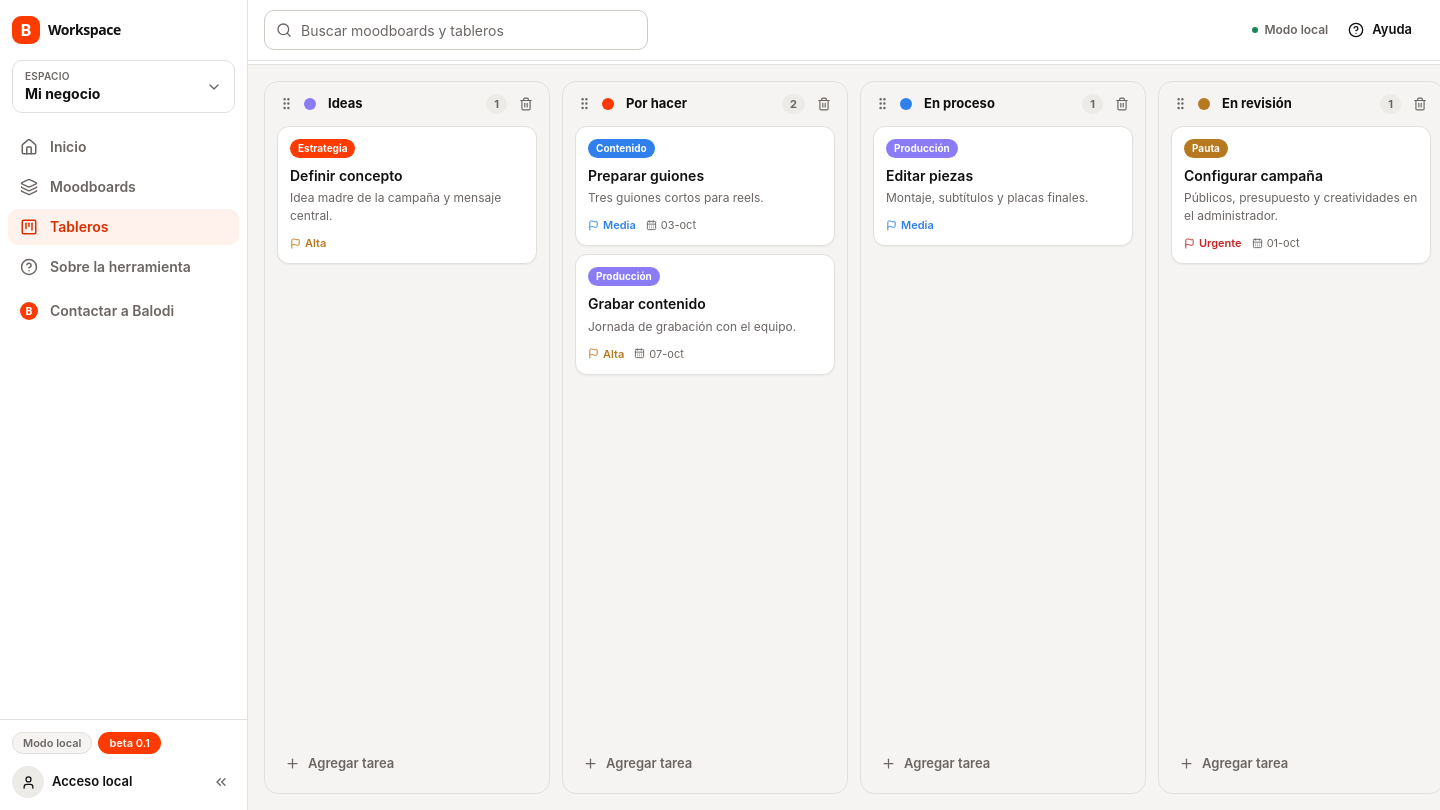
it: producto › abre el tablero con sus columnas y tareas y persiste una tarea nueva
The width and height of the screenshot is (1440, 810).
(page scrolled)
Expected: the heading "Lanzamiento de campaña" is shown, [306,18,550,46]
Expected: the element named "Ideas" is shown, [264,81,550,794]
Click the 1st button "Agregar tarea".
click(351, 762)  # box [277,746,537,781]
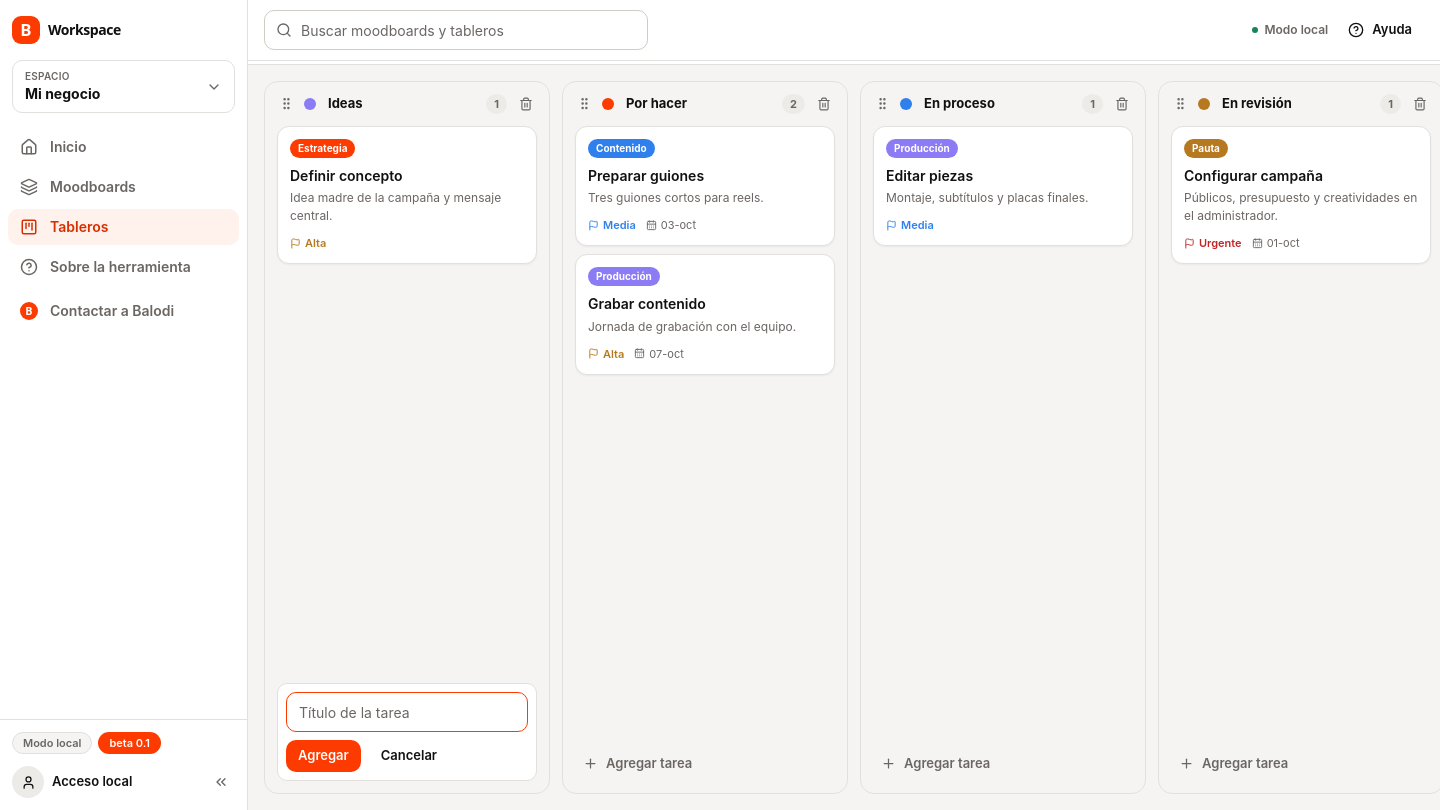
Type "Probar el guardado" into the field with placeholder "Título de la tarea".
click(407, 712); type("Probar el guardado")  # box [286,692,528,732]
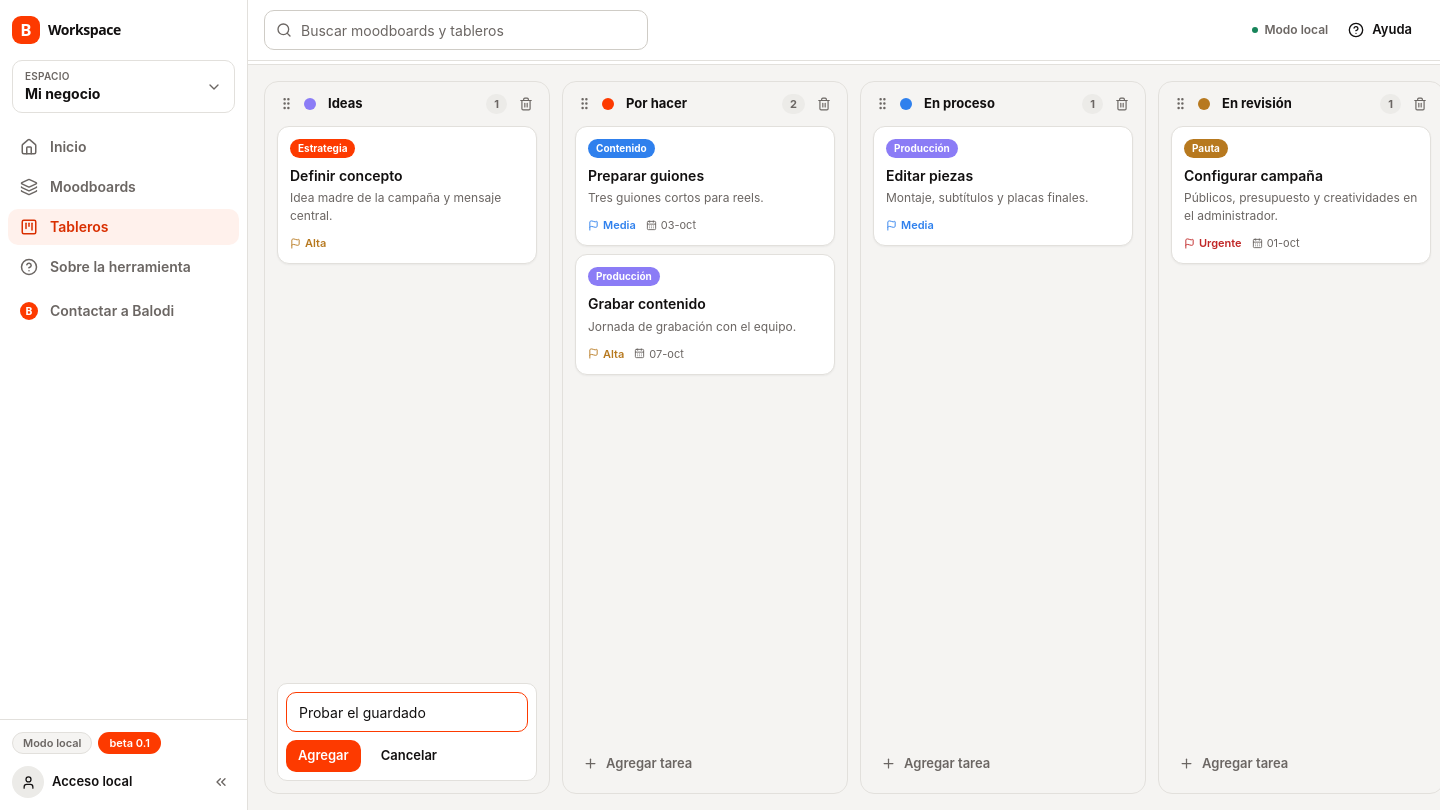
Click the button "Agregar".
click(323, 756)  # box [286,740,361,772]
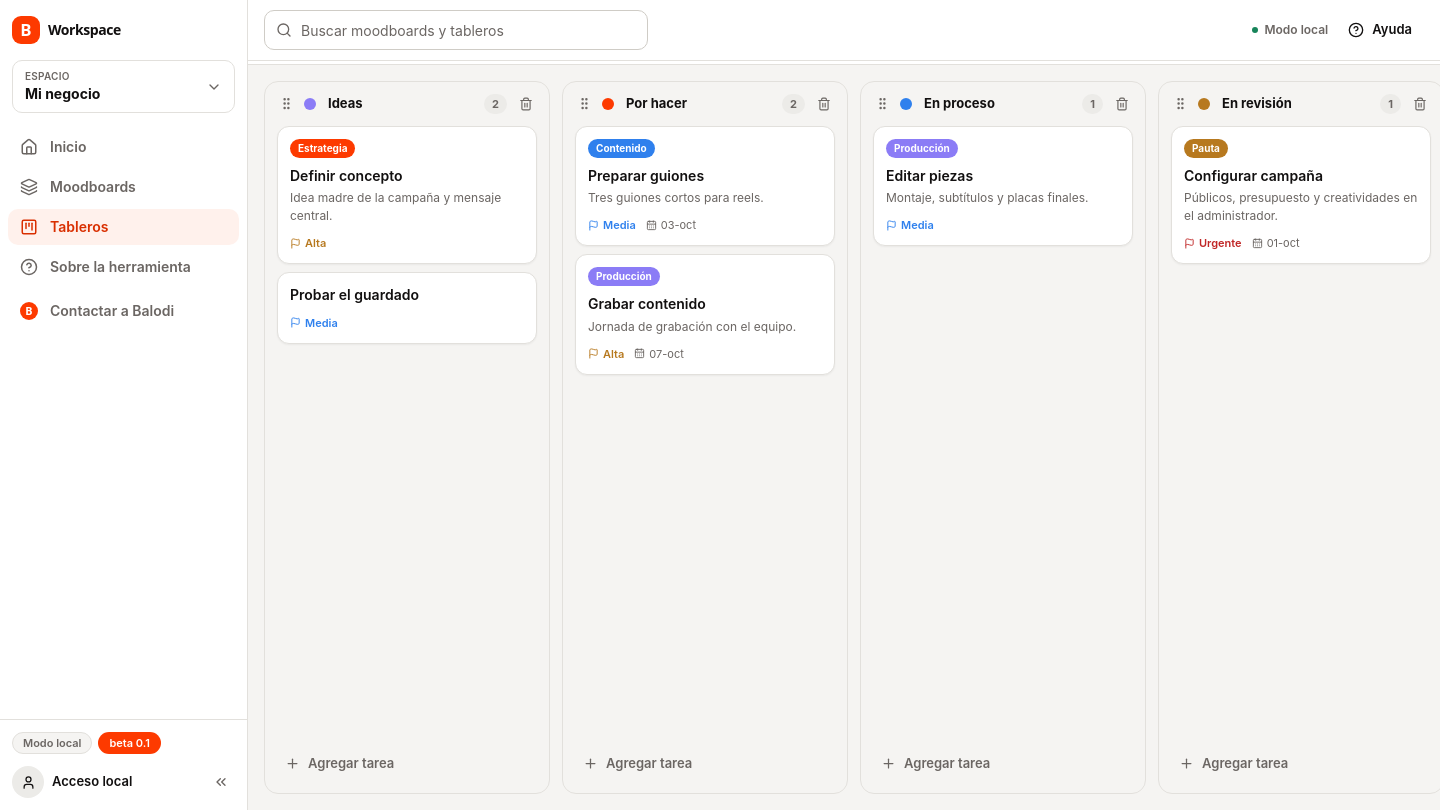
Expected: the text "Probar el guardado" is shown, [290,286,419,303]
